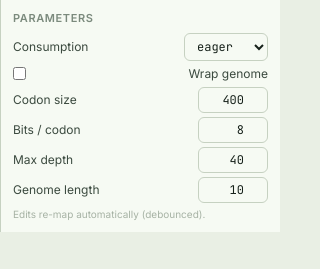
Test: ParamsPanel › blocks invalid numeric params with a message
Replace the text in the number field labelled "Max depth" with "0". click: (233, 160)
box: [198,146,268,172]
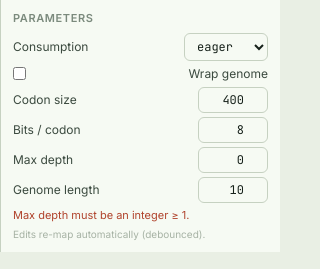
Expected: the message shows "Max depth must be an integer ≥ 1", [13,208,189,222]
